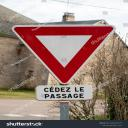preferencia: (10, 21, 118, 85)
